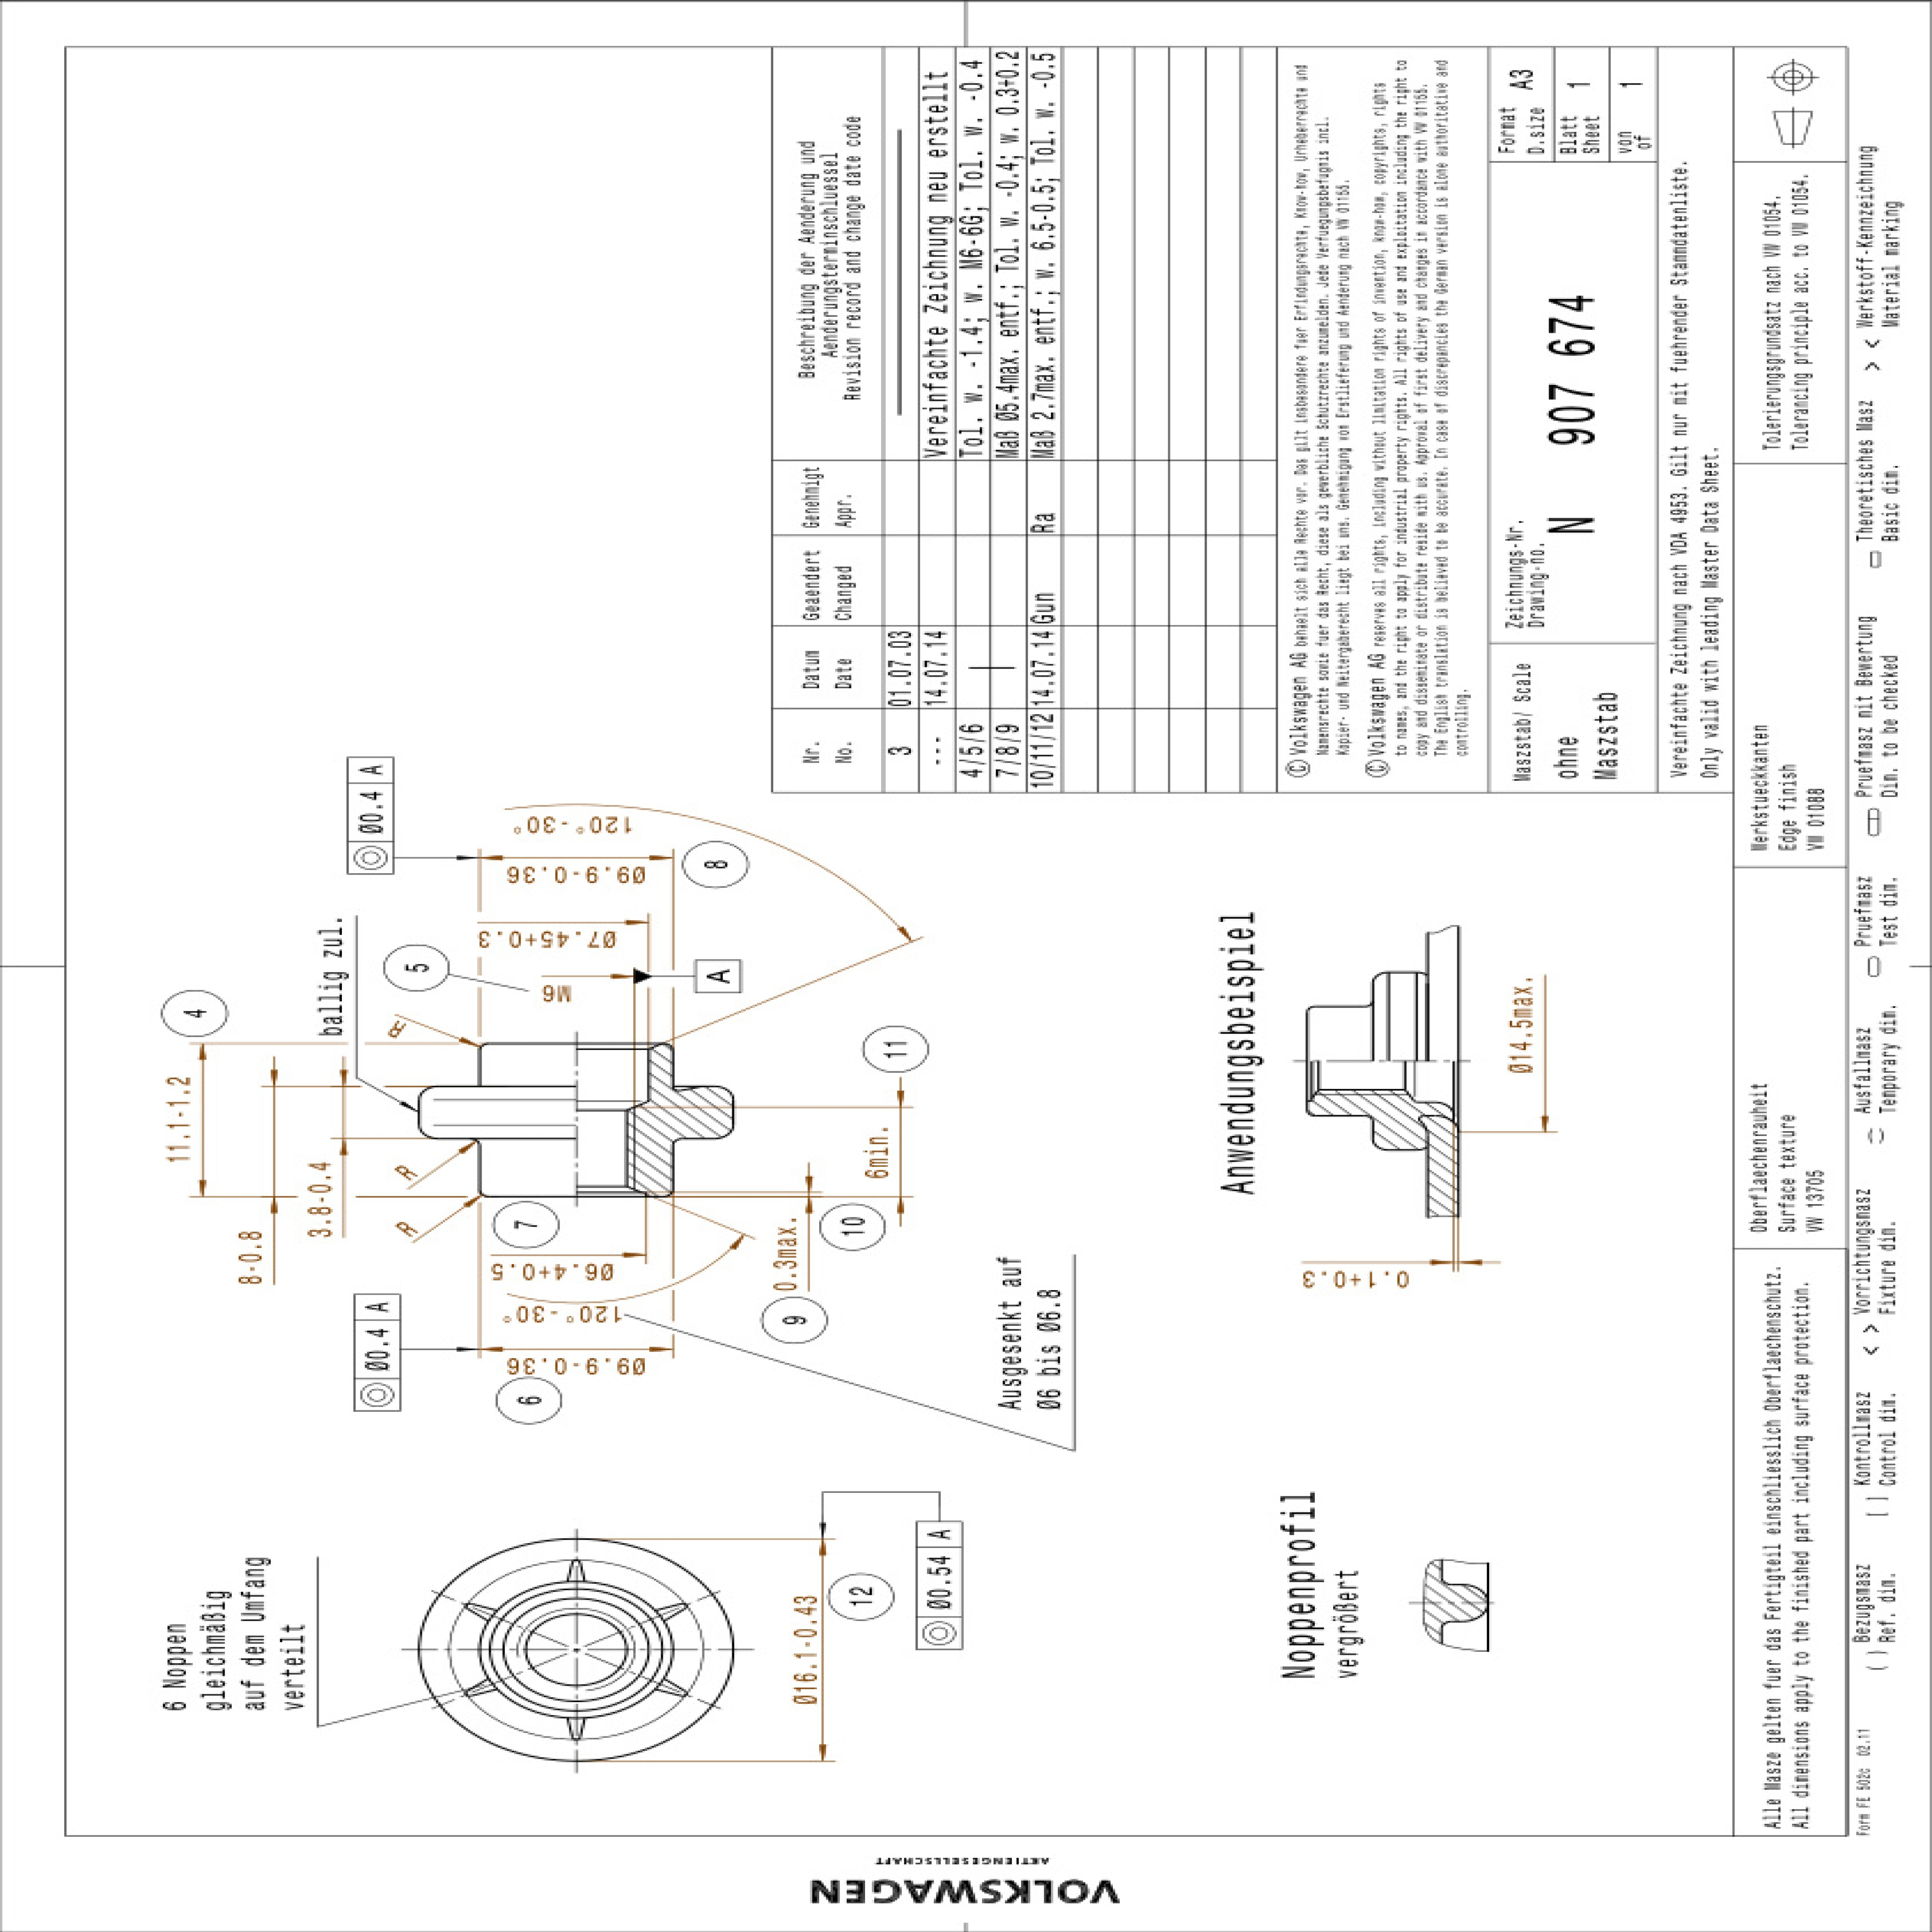InnerContour: (476, 1580, 678, 1723)
